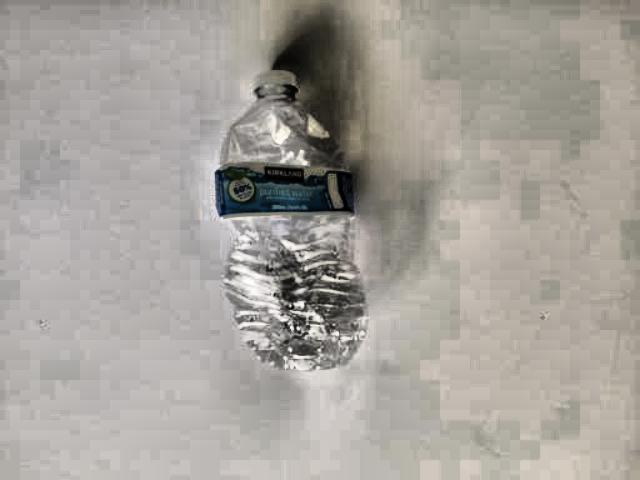Bottles: (188, 57, 393, 370)
